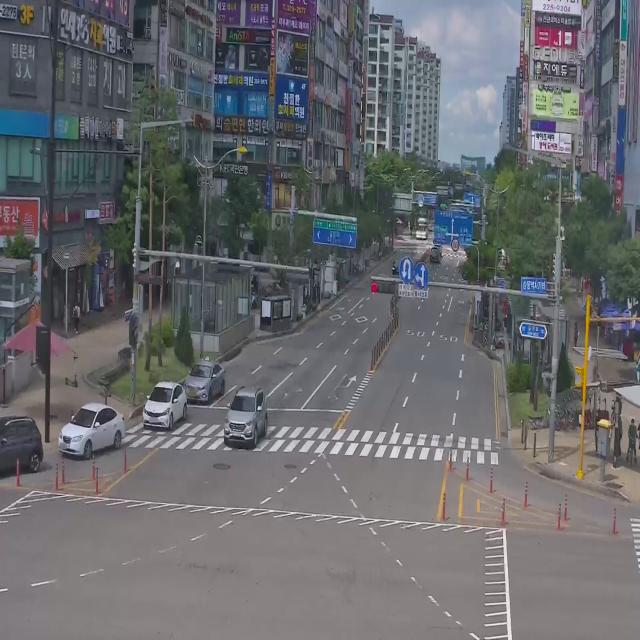Car: (58, 402, 126, 460), (223, 385, 268, 449), (0, 414, 43, 474), (142, 380, 187, 430), (184, 359, 225, 405), (389, 253, 404, 283)
